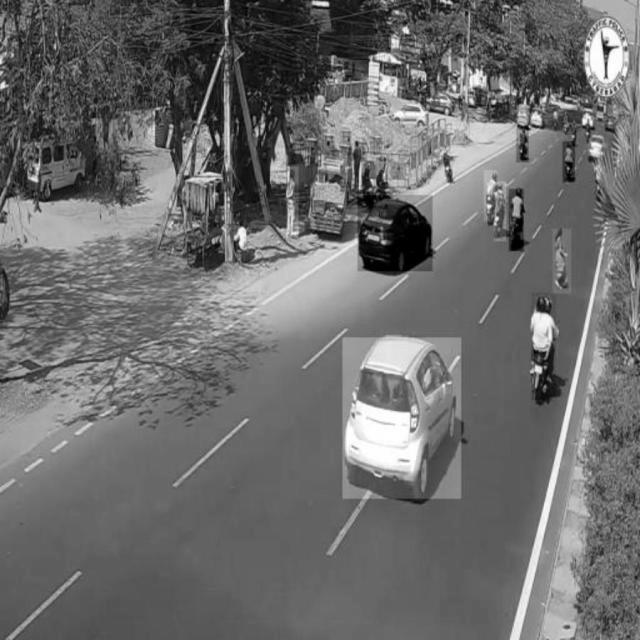person: (553, 229, 571, 293), (287, 167, 299, 238)
vehicle: (343, 338, 461, 498), (357, 195, 431, 271), (532, 293, 557, 401), (509, 189, 524, 251), (495, 182, 507, 242), (484, 170, 498, 221), (563, 142, 575, 183), (517, 125, 529, 162)
